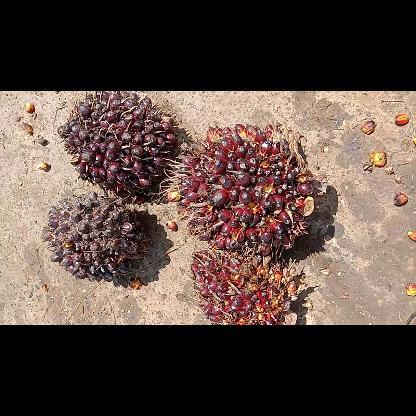Kurang masak: (156, 122, 326, 256), (58, 91, 176, 203), (40, 190, 150, 282), (187, 252, 307, 324)
